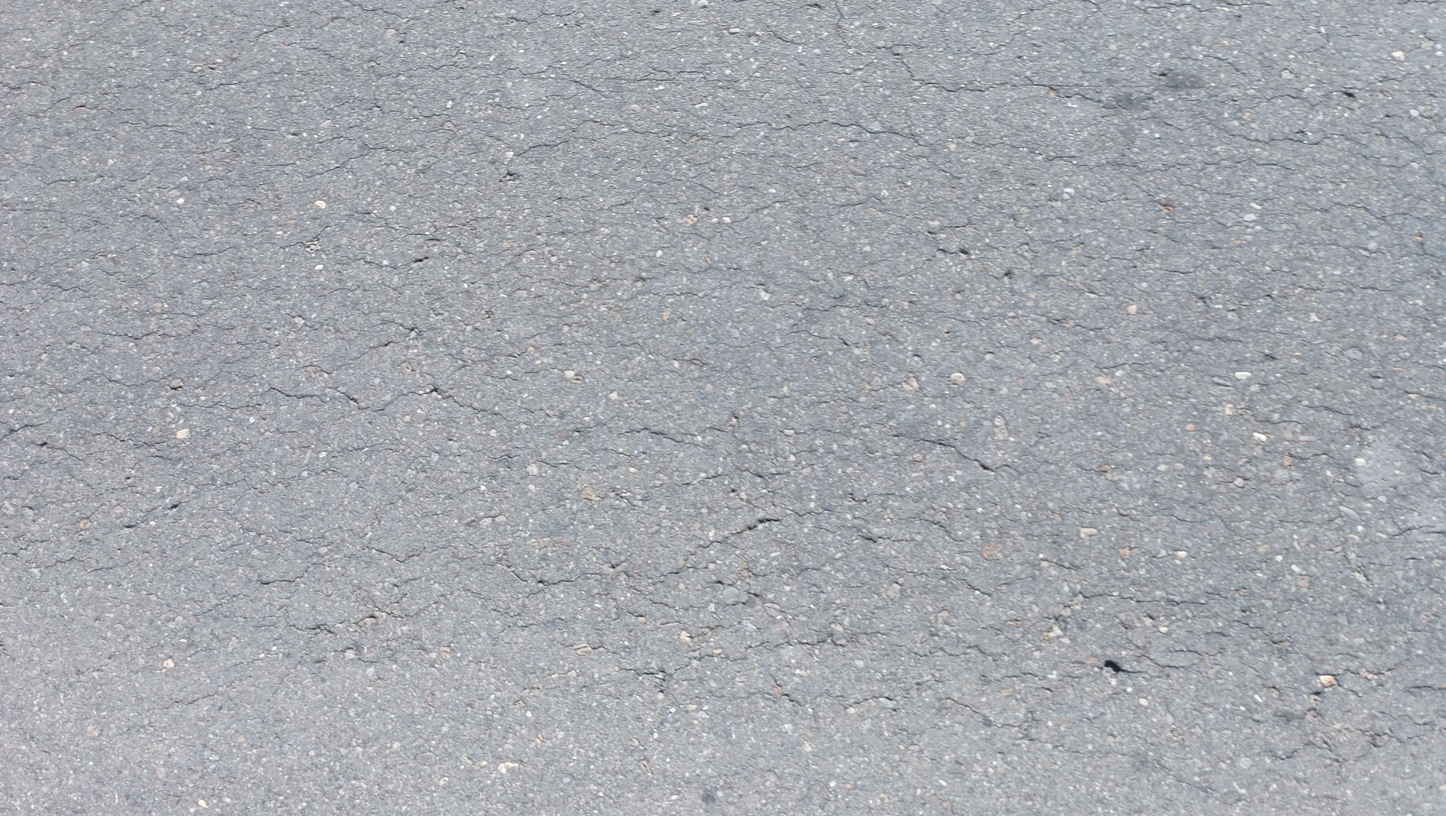PIEL DE COCODRILO: (0, 0, 1446, 793)
